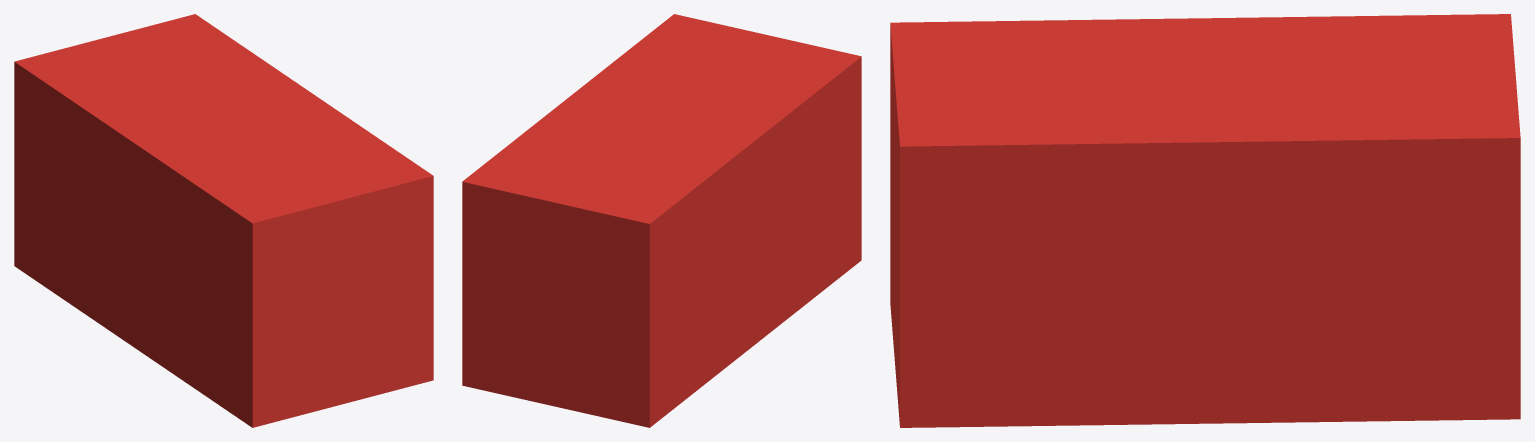
The model's file is mstripe_n_12_lev5.glb.
3 views of the same model, side by side, from view 1: azimuth 30°, elevation 25°; view 2: azimuth 150°, elevation 25°; view 3: azimuth 270°, elevation 25° (orthographic). The views are drawn at different scales.
Parts seen in each view (by area): view 1: mstripe_n_12_lev5; view 2: mstripe_n_12_lev5; view 3: mstripe_n_12_lev5.
Part boxes in pixels (x1,y1,x2,y2): mstripe_n_12_lev5: [14, 14, 433, 427]; mstripe_n_12_lev5: [462, 14, 861, 427]; mstripe_n_12_lev5: [890, 14, 1520, 427].
Size of the model in its own units: 1.11 by 1.1 by 2.23.
